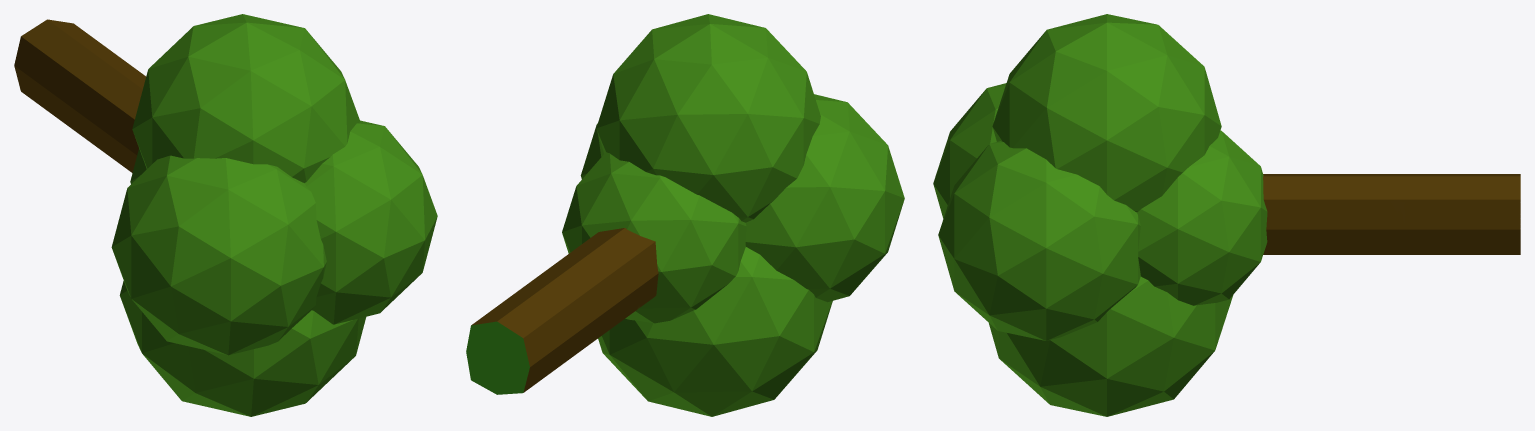
The model's file is Tree.obj.
3 renders of one model, left to right at view 1: azimuth 30°, elevation 25°; view 2: azimuth 150°, elevation 25°; view 3: azimuth 270°, elevation 25°, orthographic.
Parts seen in each view (by area): view 1: Icosphere; view 2: Icosphere; view 3: Icosphere.
Boxes of the visible parts, <box> form: Icosphere: <box>14,14,437,416</box>; Icosphere: <box>466,14,904,416</box>; Icosphere: <box>933,14,1520,416</box>.
Bounding box in the file's own units: 10.9 × 13.94 × 19.3.
1 material, 1 textured.
